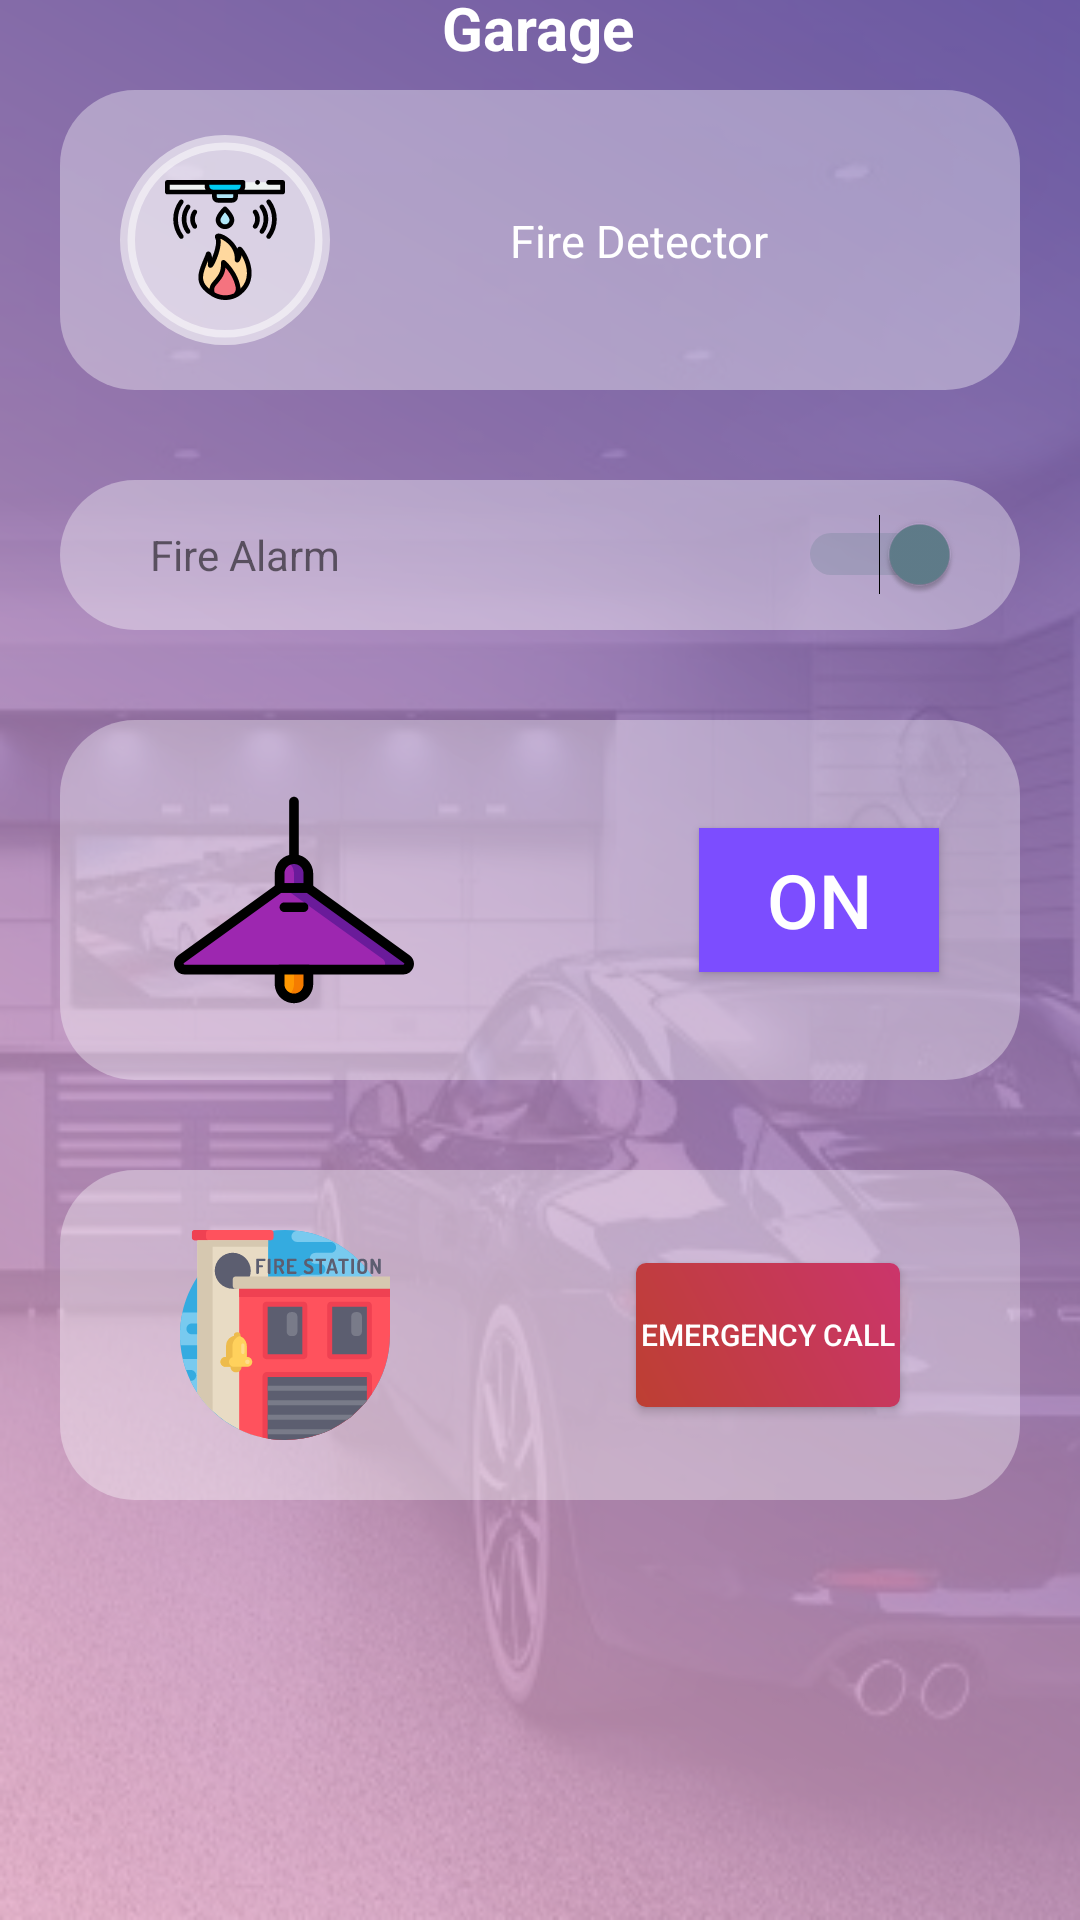

Icon bounding boxes for this 1080*1920 phone screenshot, format (x1, y1, x2, y2):
fire sensor: (120, 135, 330, 345)
lamp off: (174, 796, 414, 1020)
